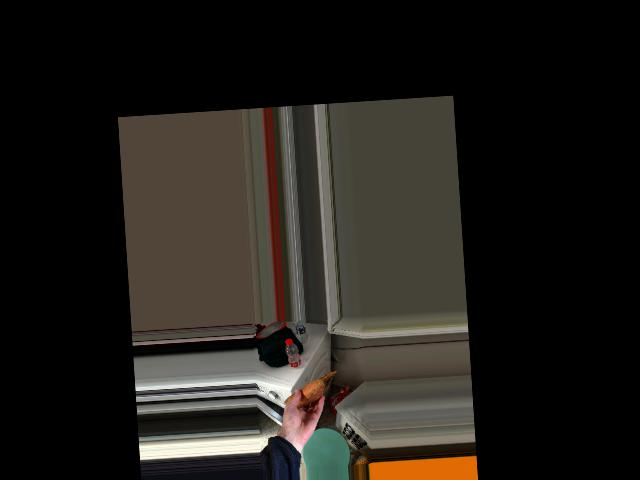sweet_potato: (289, 380, 323, 411)
